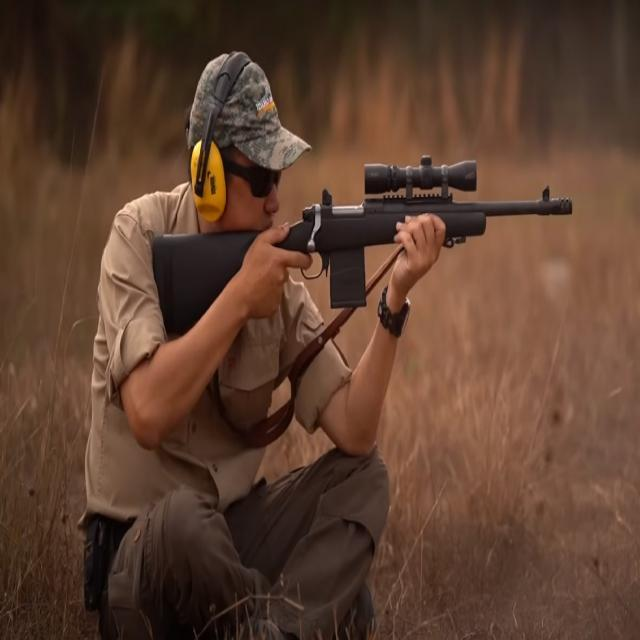rifle: (144, 149, 581, 352)
